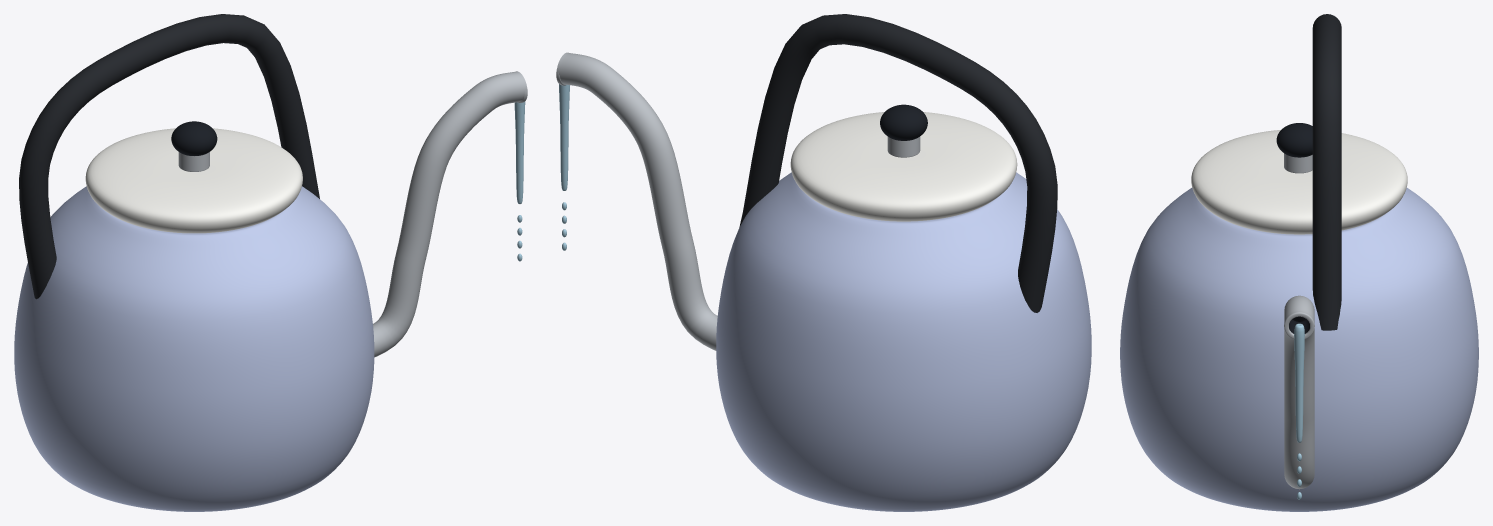
The model's file is pour-over-kettle.glb.
The picture shows the model from 3 angles, left to right: view 1: azimuth 30°, elevation 25°; view 2: azimuth 150°, elevation 25°; view 3: azimuth 270°, elevation 25°; orthographic projection. The views are drawn at different scales.
Parts seen in each view (by area): view 1: double-wall-rounded-kettle, sculpted-surface, intact-pouring-kettle-006, intact-pouring-kettle-003, intact-pouring-kettle-009, slender-pouring-water-stream; view 2: double-wall-rounded-kettle, intact-pouring-kettle-006, sculpted-surface, intact-pouring-kettle-003, intact-pouring-kettle-009, slender-pouring-water-stream; view 3: double-wall-rounded-kettle, sculpted-surface, intact-pouring-kettle-006, intact-pouring-kettle-003, intact-pouring-kettle-009, slender-pouring-water-stream, intact-pouring-kettle-008.
Part boxes in pixels (x1,y1,x2,y2): double-wall-rounded-kettle: (14,186,374,511); sculpted-surface: (85,128,302,233); intact-pouring-kettle-006: (19,14,319,299); intact-pouring-kettle-003: (373,71,527,357); intact-pouring-kettle-009: (171,121,217,155); slender-pouring-water-stream: (514,101,525,203); double-wall-rounded-kettle: (716,172,1091,511); intact-pouring-kettle-006: (739,14,1057,312); sculpted-surface: (790,112,1017,221); intact-pouring-kettle-003: (556,52,717,350); intact-pouring-kettle-009: (880,104,927,140); slender-pouring-water-stream: (559,84,569,190); double-wall-rounded-kettle: (1120,187,1478,511); sculpted-surface: (1191,130,1407,234); intact-pouring-kettle-006: (1312,14,1341,330); intact-pouring-kettle-003: (1284,295,1314,489); intact-pouring-kettle-009: (1276,123,1312,157); slender-pouring-water-stream: (1294,323,1304,442); intact-pouring-kettle-008: (1284,153,1312,173).
Bounding box in the file's own units: 2 × 1.66 × 1.27.
